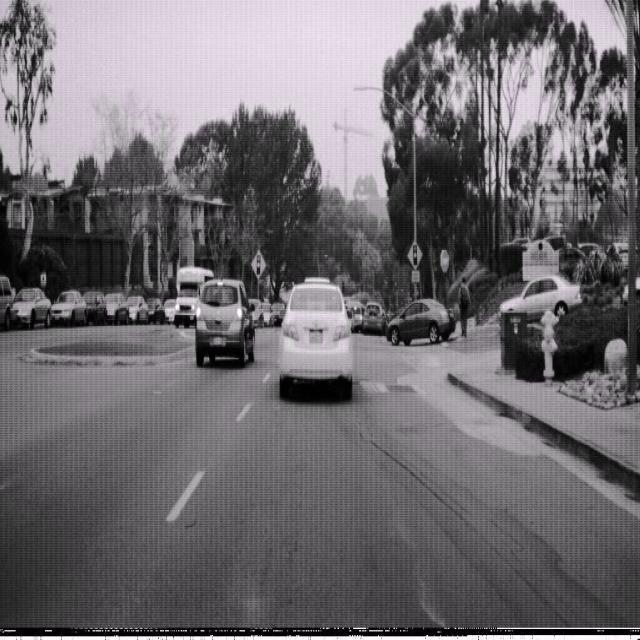stop_sign: (440, 248, 450, 273)
